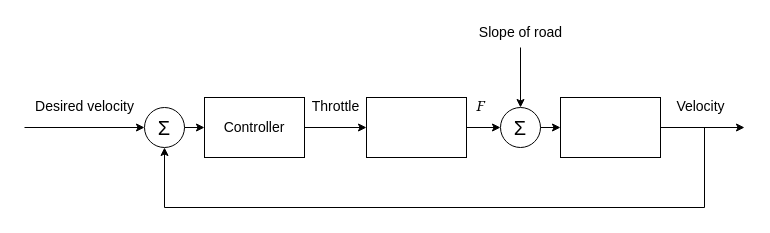
The diagram is 770 pixels wide and 233 high, and some of its shapes have lost their labels. The box of each missing label's shape, as (x1, y1, x2, y2) in pixels:
Body: (560, 96, 660, 158)
Engine: (366, 96, 466, 158)
